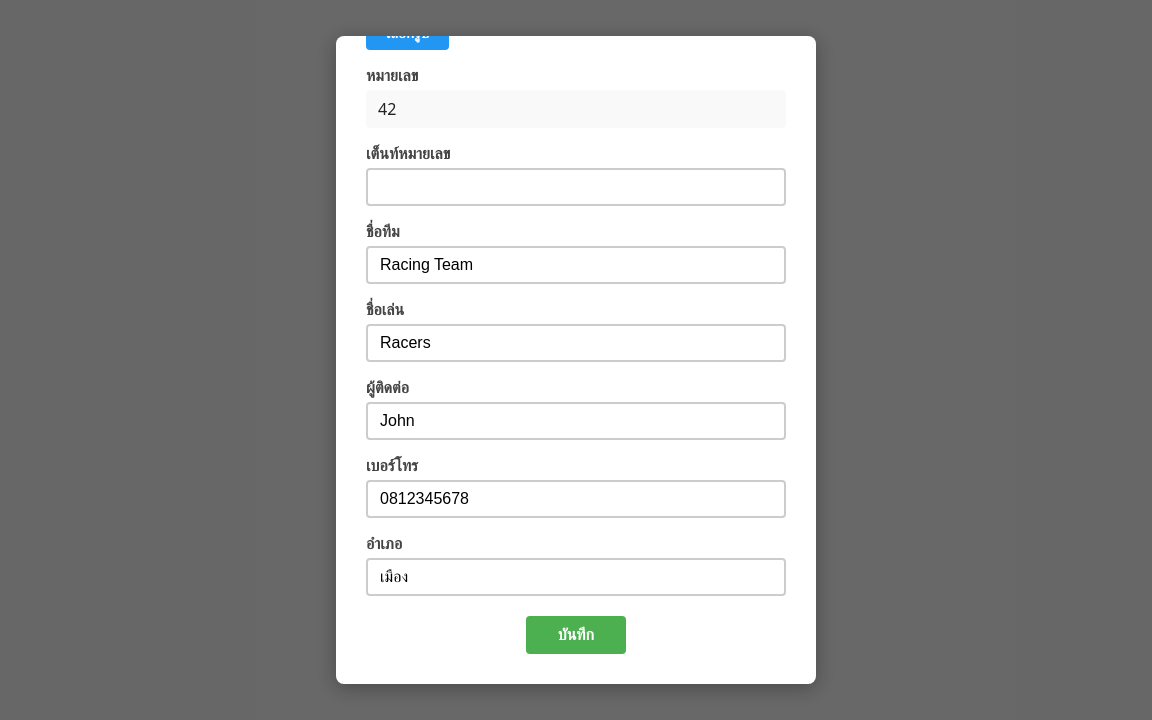
Test: TeamDetailModal › shows error message when save fails
This screenshot has width=1152, height=720.
(page scrolled)
Click the button "บันทึก".
click(576, 635)  # box x1=526 y1=616 x2=626 y2=654
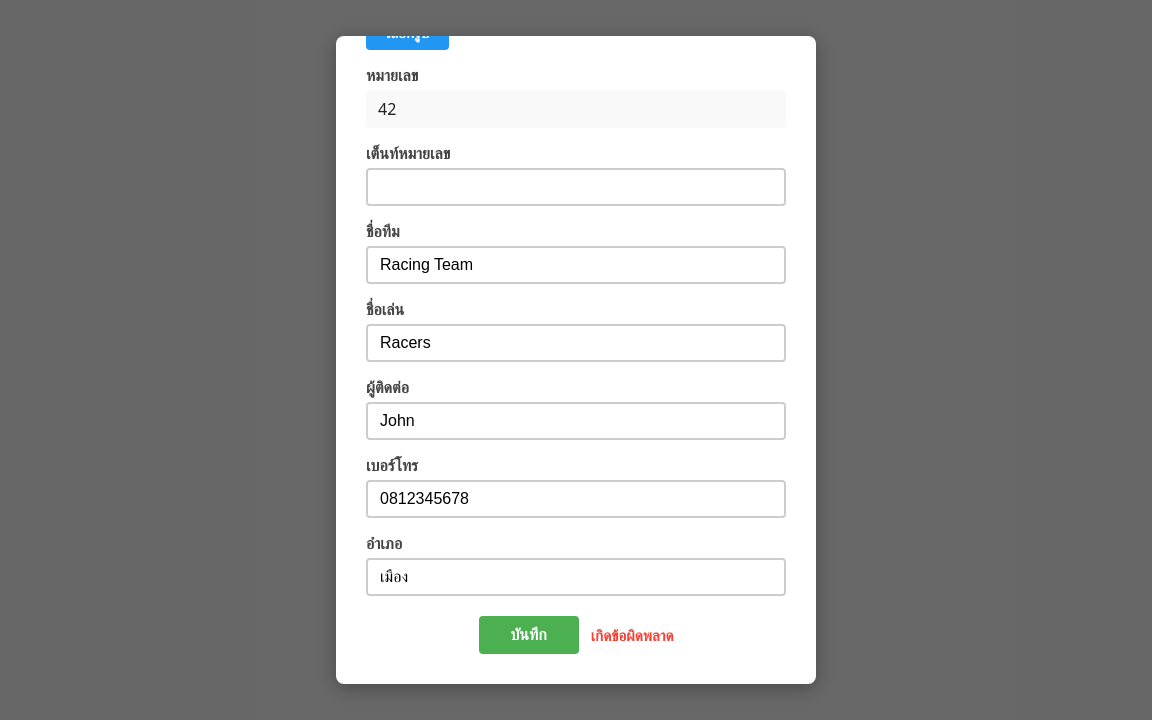
Now the text "เกิดข้อผิดพลาด" is shown, box x1=591 y1=625 x2=674 y2=645
